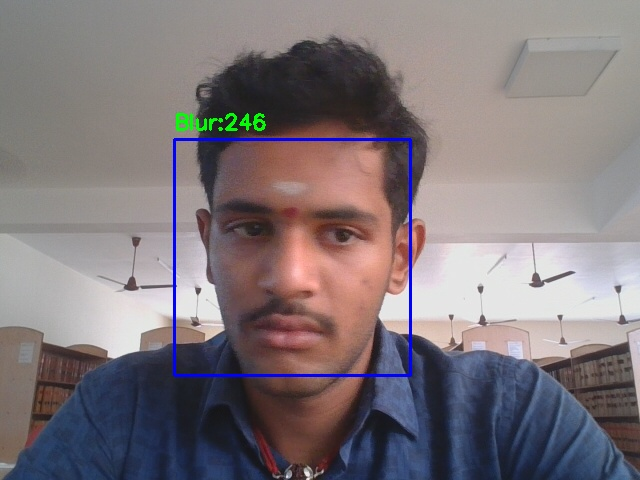real: (174, 139, 410, 375)
